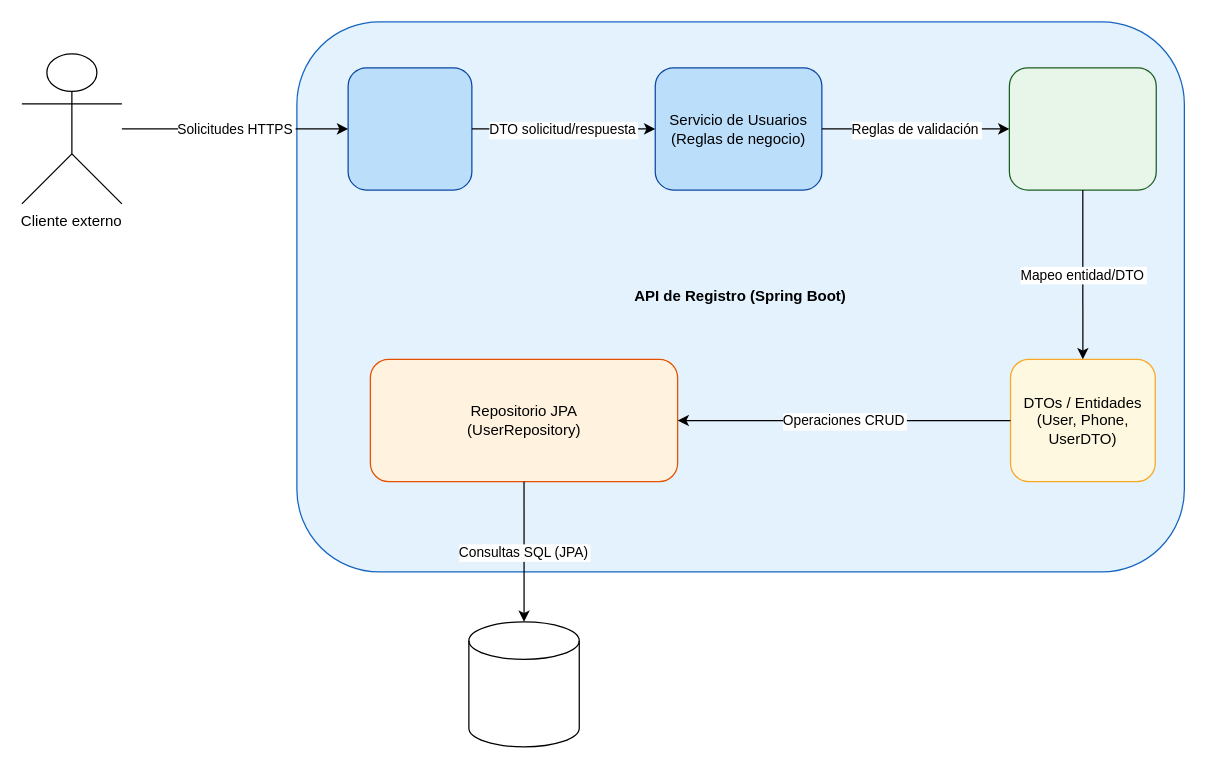
This 1206x769 diagram has some shape labels left out. The shapes that lost their labels are listed below. From the top down, each one's centre as x and y in pixels, then its label:
At point 409,128: "Controlador REST /api/users".
At point 1082,128: "Validadores Email / Password".
At point 523,684: "H2 (en memoria)".
